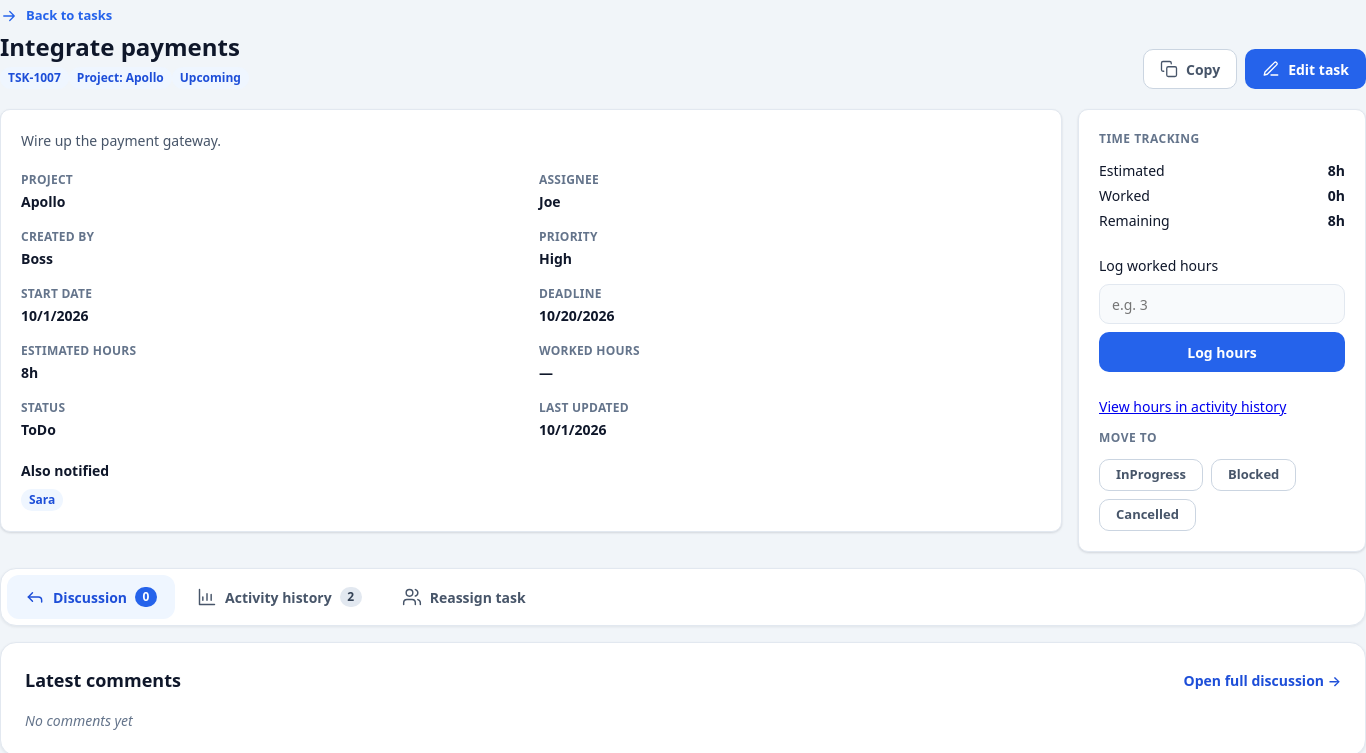
Test: TaskDetailsComponent › tabs › switches the panel in place and lists the newest activity first
The image size is (1366, 753).
Click the tab "Activity history 2".
click(279, 597)  # box [179,575,380,619]
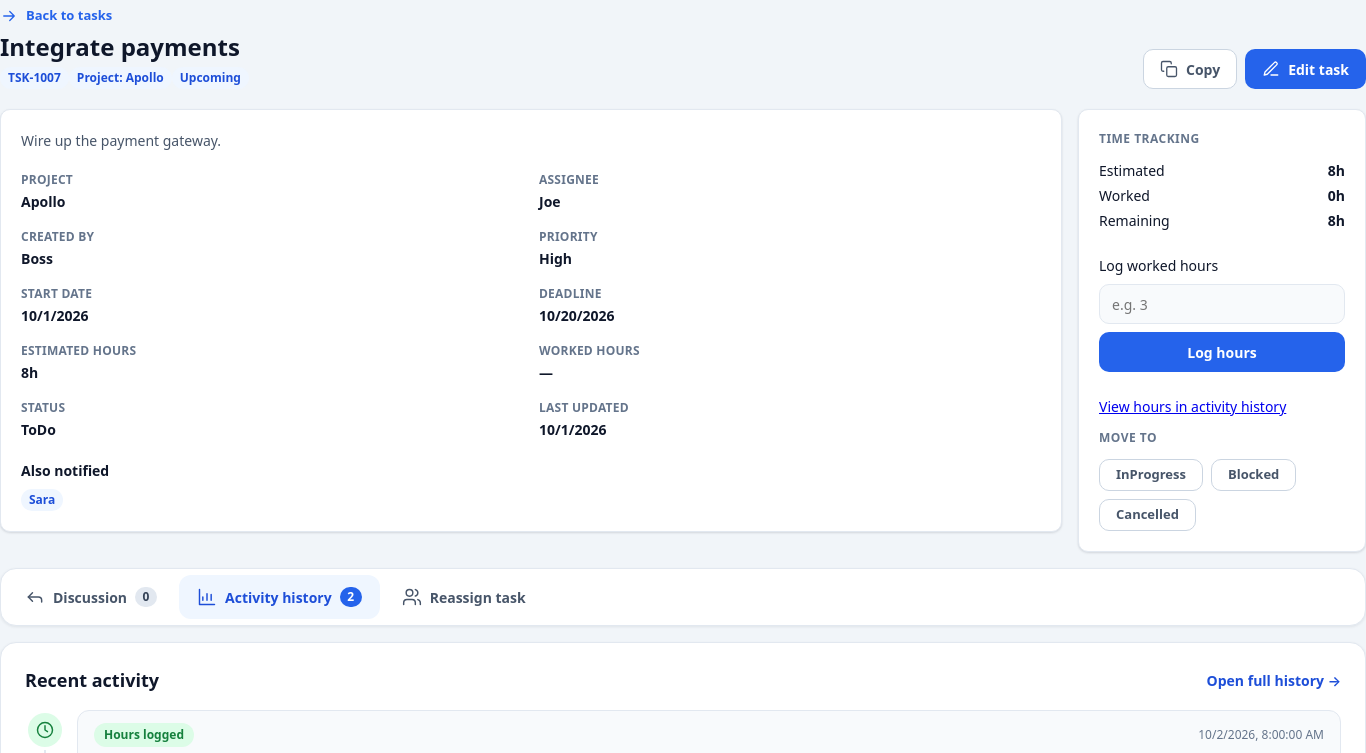
Check: the panel shows "Hours logged", box [104,726,184,743]
Click the tab "Reassign task".
click(464, 597)  # box [384,575,544,619]
(page scrolled)
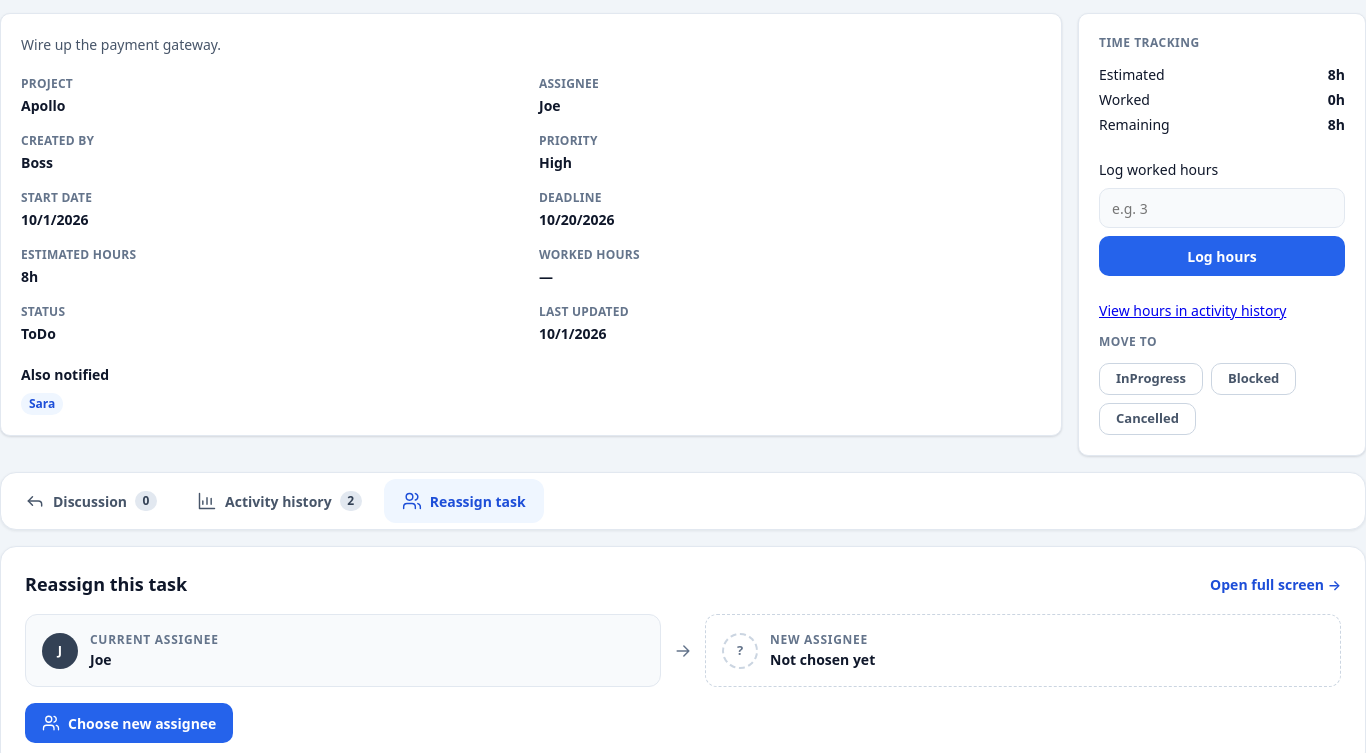
Check: the panel shows "Choose new assignee", box [25,703,233,743]
